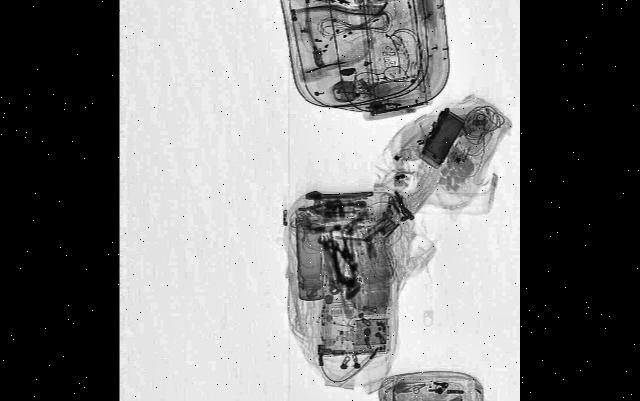Wrench: (316, 230, 342, 299), (304, 188, 372, 206)
